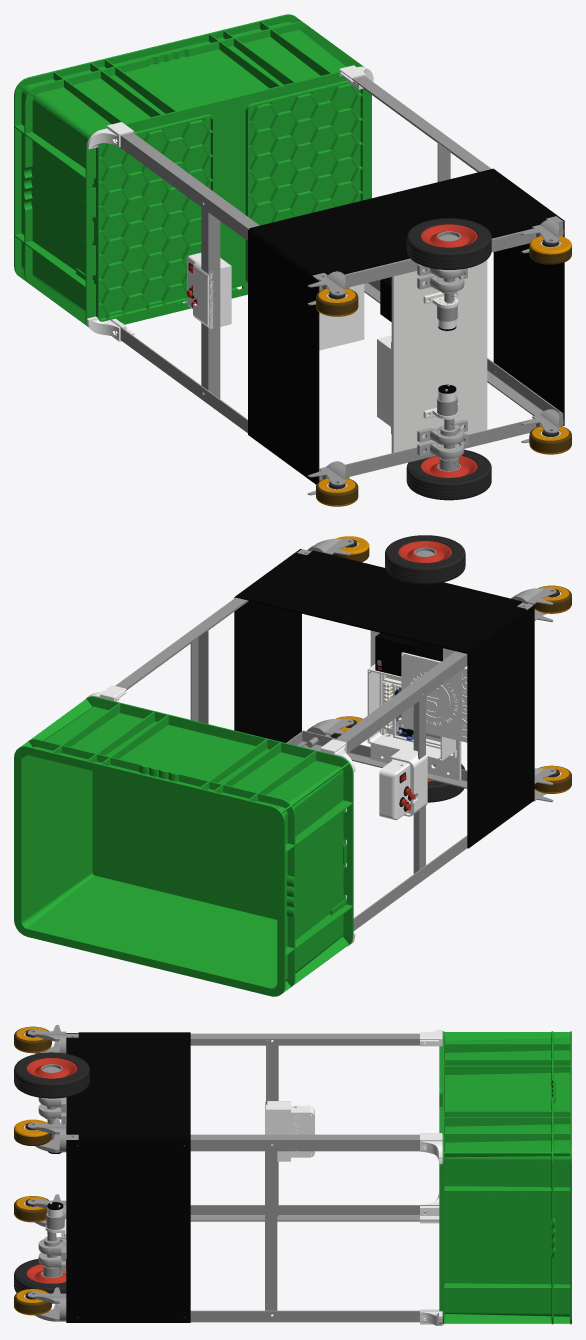
File: EbarisbotCompleto.gltf
3 views of the same model, one above another, from view 1: azimuth 30°, elevation 25°; view 2: azimuth 150°, elevation 25°; view 3: azimuth 270°, elevation 25° (orthographic). The views are drawn at different scales.
Parts seen in each view (by area): view 1: Solid1 (×30); view 2: Solid1 (×25); view 3: Solid1 (×24), Solid2.
Boxes of the visible parts, <box> form: Solid1 (×30): <box>14,14,571,506</box>; Solid1 (×25): <box>14,535,571,996</box>; Solid1 (×24): <box>14,1025,571,1324</box>; Solid2: <box>291,1112,314,1157</box>.
Size of the model in its own units: 0.5948 by 0.4904 by 1.12.
